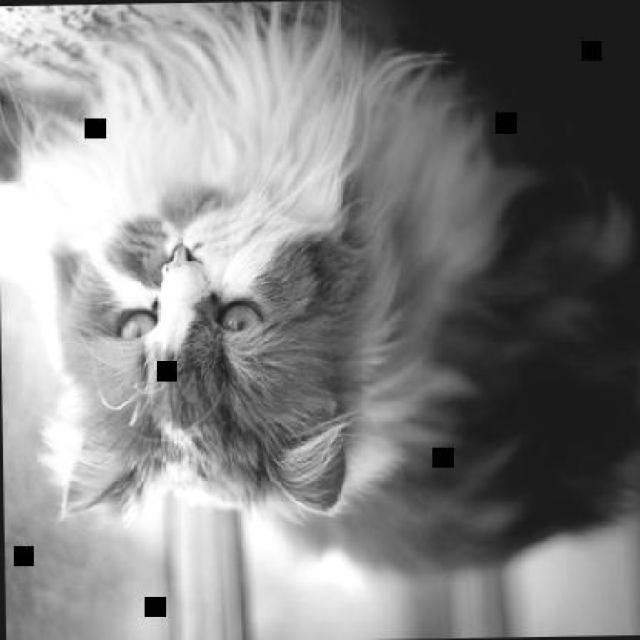cat: (27, 14, 638, 589)
